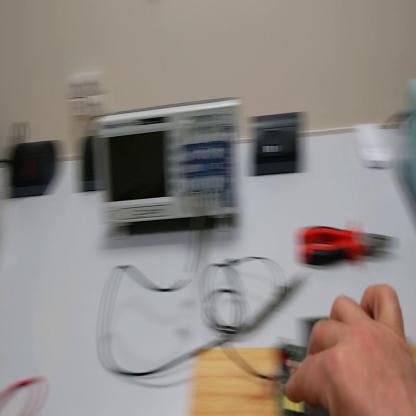hand: (285, 280, 416, 413)
low voltage board: (224, 322, 416, 416)
oscilloscope: (99, 102, 241, 236)
oscilloscope probe tip: (234, 270, 314, 337)
pliers: (294, 224, 400, 266)
socket: (12, 135, 60, 197), (76, 133, 106, 194)
welder base: (400, 80, 416, 215)
working area: (193, 341, 414, 414)
